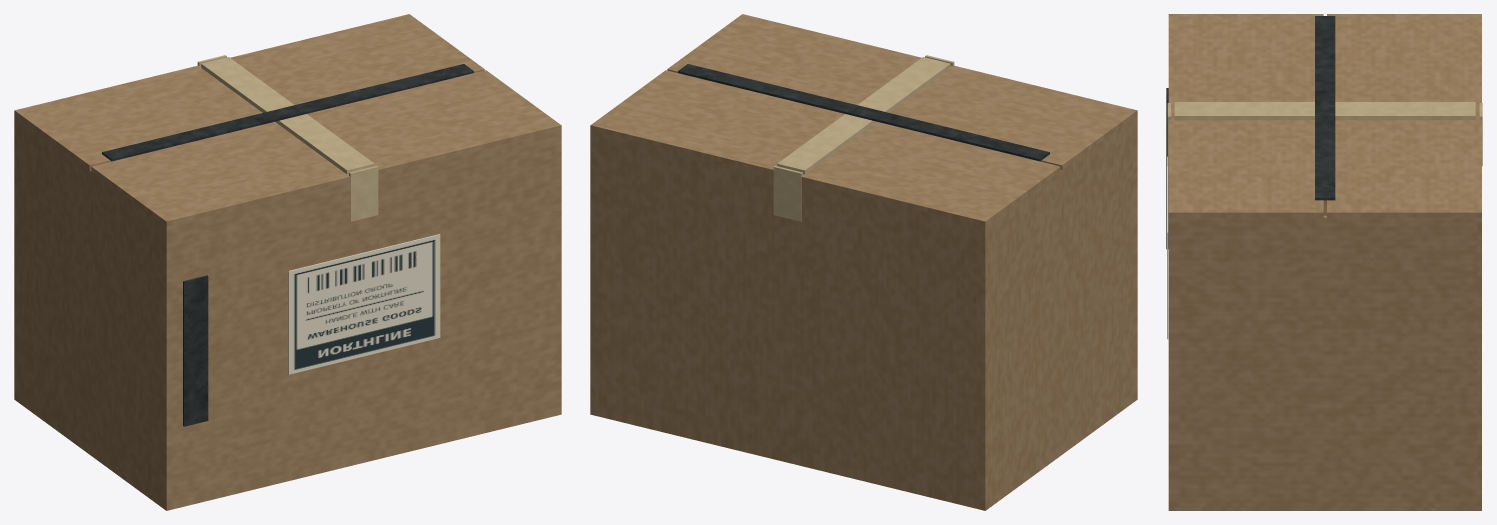
File: MOD_04_Carton_Large_600x400.glb
3 views of the same model, side by side, from view 1: azimuth 30°, elevation 25°; view 2: azimuth 150°, elevation 25°; view 3: azimuth 270°, elevation 25° (orthographic). The views are drawn at different scales.
Visible parts, largest first — view 1: Render_Carton_Large_600x400_CorrugatedFront, Render_Carton_Large_600x400_CorrugatedLeft, Render_Carton_Large_600x400_TopFlapFront, Render_Carton_Large_600x400_TopFlapBack, Render_Carton_Large_600x400_WarehouseShippingLabel, Render_Carton_Large_600x400_ExtraTransportStrap, Render_Carton_Large_600x400_TapeTopCenter, Render_Carton_Large_600x400_TransportStrapFront, Render_Carton_Large_600x400_CartonBottom, Render_Carton_Large_600x400_TapeFrontTurnover, Render_Carton_Large_600x400_CorrugatedRear; view 2: Render_Carton_Large_600x400_CorrugatedRear, Render_Carton_Large_600x400_CorrugatedLeft, Render_Carton_Large_600x400_TopFlapBack, Render_Carton_Large_600x400_TopFlapFront, Render_Carton_Large_600x400_ExtraTransportStrap, Render_Carton_Large_600x400_TapeTopCenter, Render_Carton_Large_600x400_CartonBottom, Render_Carton_Large_600x400_TapeRearTurnover, Render_Carton_Large_600x400_CorrugatedFront; view 3: Render_Carton_Large_600x400_CorrugatedRight, Render_Carton_Large_600x400_TopFlapFront, Render_Carton_Large_600x400_TopFlapBack, Render_Carton_Large_600x400_TapeTopCenter, Render_Carton_Large_600x400_ExtraTransportStrap, Render_Carton_Large_600x400_CorrugatedFront, Render_Carton_Large_600x400_CartonBottom, Render_Carton_Large_600x400_CorrugatedRear.
Boxes of the visible parts, x1,y1,x2,y2 form: Render_Carton_Large_600x400_CorrugatedFront: (164, 130, 561, 506); Render_Carton_Large_600x400_CorrugatedLeft: (16, 117, 164, 504); Render_Carton_Large_600x400_TopFlapFront: (91, 70, 561, 226); Render_Carton_Large_600x400_TopFlapBack: (14, 14, 484, 169); Render_Carton_Large_600x400_WarehouseShippingLabel: (288, 234, 440, 374); Render_Carton_Large_600x400_ExtraTransportStrap: (102, 64, 473, 161); Render_Carton_Large_600x400_TapeTopCenter: (201, 57, 374, 174); Render_Carton_Large_600x400_TransportStrapFront: (183, 275, 208, 426); Render_Carton_Large_600x400_CartonBottom: (14, 395, 561, 510); Render_Carton_Large_600x400_TapeFrontTurnover: (349, 166, 378, 221); Render_Carton_Large_600x400_CorrugatedRear: (14, 115, 16, 396); Render_Carton_Large_600x400_CorrugatedRear: (590, 130, 987, 506); Render_Carton_Large_600x400_CorrugatedLeft: (987, 117, 1135, 504); Render_Carton_Large_600x400_TopFlapBack: (590, 70, 1060, 226); Render_Carton_Large_600x400_TopFlapFront: (667, 14, 1137, 169); Render_Carton_Large_600x400_ExtraTransportStrap: (678, 64, 1049, 161); Render_Carton_Large_600x400_TapeTopCenter: (777, 57, 950, 174); Render_Carton_Large_600x400_CartonBottom: (590, 395, 1137, 510); Render_Carton_Large_600x400_TapeRearTurnover: (773, 166, 802, 221); Render_Carton_Large_600x400_CorrugatedFront: (1135, 115, 1137, 396); Render_Carton_Large_600x400_CorrugatedRight: (1173, 215, 1477, 506); Render_Carton_Large_600x400_TopFlapFront: (1168, 14, 1323, 217); Render_Carton_Large_600x400_TopFlapBack: (1327, 14, 1481, 217); Render_Carton_Large_600x400_TapeTopCenter: (1174, 102, 1475, 120); Render_Carton_Large_600x400_ExtraTransportStrap: (1315, 16, 1335, 200); Render_Carton_Large_600x400_CorrugatedFront: (1168, 217, 1173, 506); Render_Carton_Large_600x400_CartonBottom: (1168, 506, 1481, 510); Render_Carton_Large_600x400_CorrugatedRear: (1477, 217, 1481, 506).
Bounding box in the file's own units: 0.6 × 0.429 × 0.404.
Materials: 4 (4 with a texture image).
